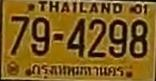2: (88, 18, 106, 56)
4: (67, 17, 84, 56)
7: (10, 15, 29, 54)
8: (129, 19, 147, 57)
9: (30, 16, 48, 55), (108, 19, 126, 57)
BKK: (28, 62, 128, 79)
